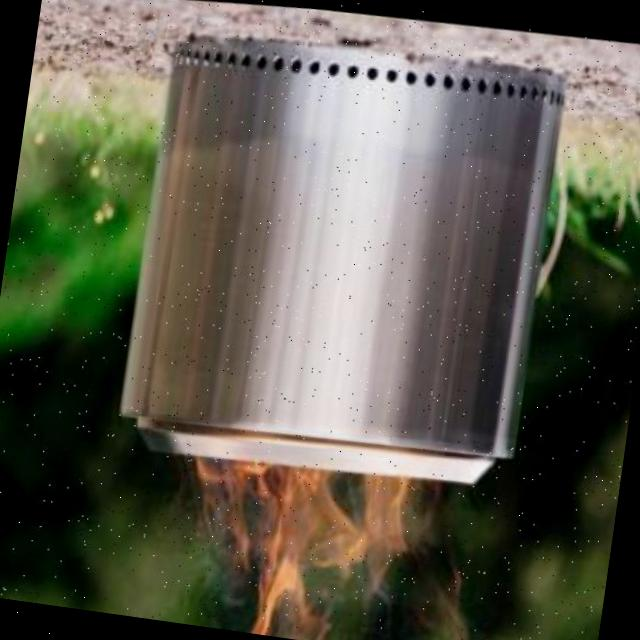fire: (176, 426, 453, 640)
